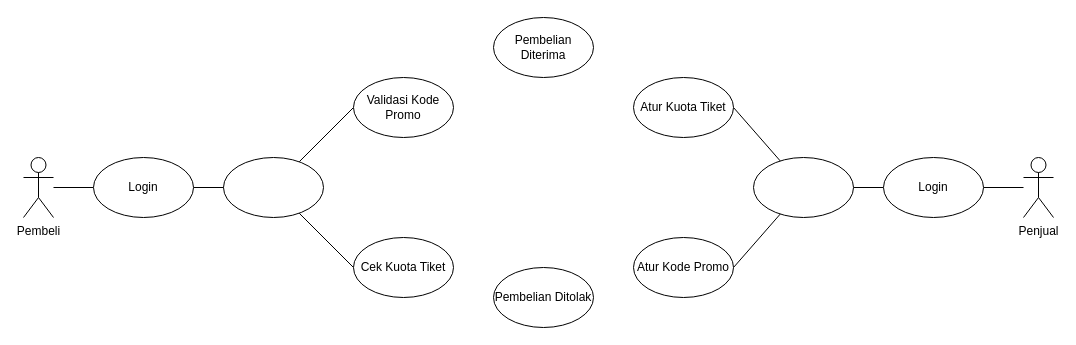
The diagram is 1076 pixels wide and 345 high, and some of its shapes have lost their labels. Here are the shapes that lost their labels. From the top down, the centre of each, then its label:
At point (273, 187): "Beli Tiket".
At point (803, 187): "Kelola Tiket".
